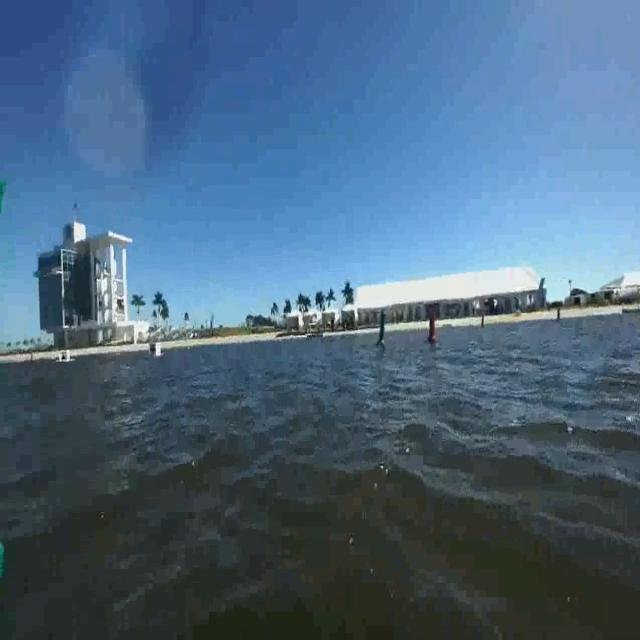green-column-buoy: (372, 293, 389, 358)
red-column-buoy: (425, 290, 443, 356)
